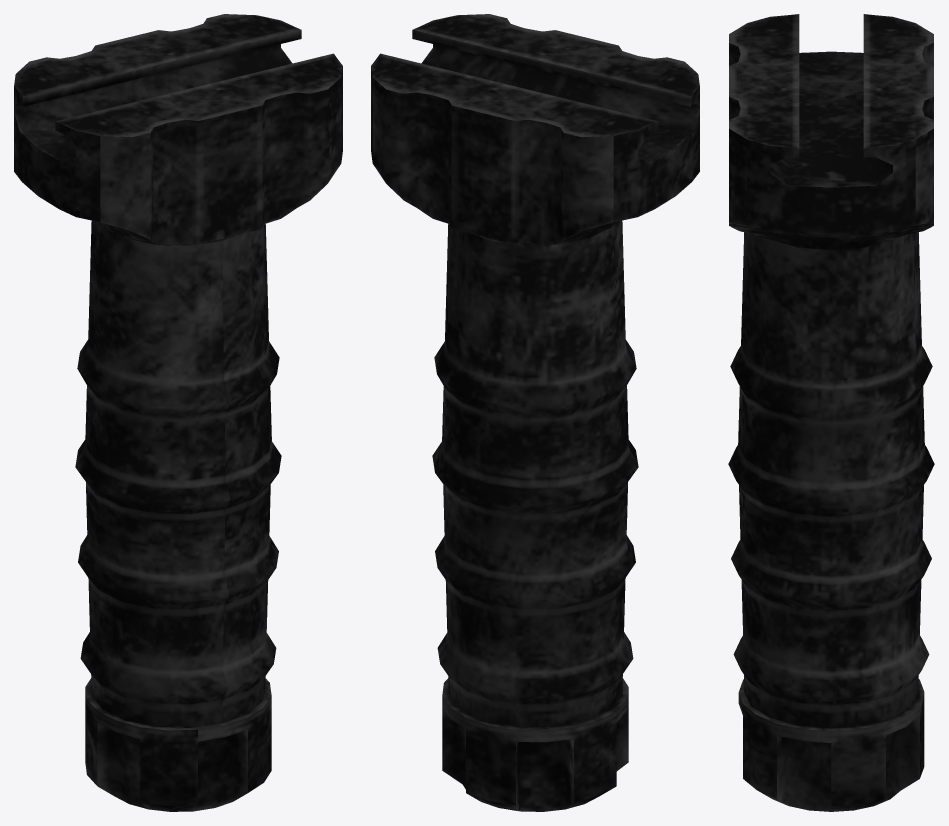
File: ST_Grip_Vertical.FBX
3 renders of one model, left to right at view 1: azimuth 30°, elevation 25°; view 2: azimuth 150°, elevation 25°; view 3: azimuth 270°, elevation 25°, orthographic.
Visible parts, largest first — view 1: ST_Grip_Vertical; view 2: ST_Grip_Vertical; view 3: ST_Grip_Vertical.
Boxes of the visible parts, <box> form: ST_Grip_Vertical: <box>14,14,342,811</box>; ST_Grip_Vertical: <box>371,14,699,811</box>; ST_Grip_Vertical: <box>728,14,934,811</box>.
Bounding box in the file's own units: 5.43 × 13.18 × 3.48.
Materials: 1 (1 with a texture image).
